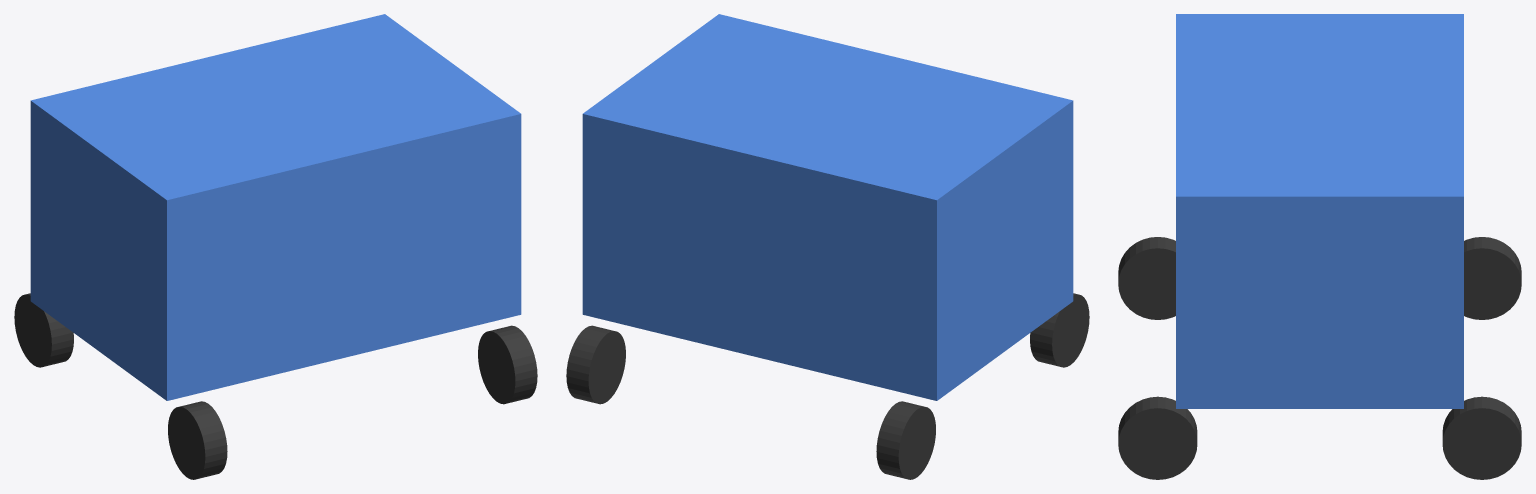
The model's file is CARRITO.fbx.
3 views of the same model, side by side, from view 1: azimuth 30°, elevation 25°; view 2: azimuth 150°, elevation 25°; view 3: azimuth 270°, elevation 25° (orthographic). The views are drawn at different scales.
Parts seen in each view (by area): view 1: Cube, Cube.001, Cylinder.001, Cylinder.003, Cylinder.002; view 2: Cube, Cube.001, Cylinder, Cylinder.002, Cylinder.003; view 3: Cube.001, Cube, Cylinder, Cylinder.001, Cylinder.002, Cylinder.003.
Boxes of the visible parts, x1,y1,x2,y2 form: Cube: (30,116,521,400); Cube.001: (30,14,521,215); Cylinder.001: (478,325,537,404); Cylinder.003: (168,401,227,479); Cylinder.002: (14,293,73,367); Cube: (582,116,1073,400); Cube.001: (582,14,1073,215); Cylinder: (566,325,625,404); Cylinder.002: (876,401,935,479); Cylinder.003: (1030,293,1089,367); Cube.001: (1176,14,1463,212); Cube: (1176,213,1463,408); Cylinder: (1442,396,1521,479); Cylinder.001: (1118,396,1197,479); Cylinder.002: (1464,237,1521,319); Cylinder.003: (1118,237,1175,319).
Bounding box in the file's own units: 240 × 177 × 224.
